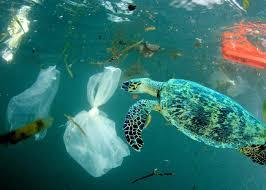Trash: (59, 81, 129, 178), (4, 70, 69, 136)
